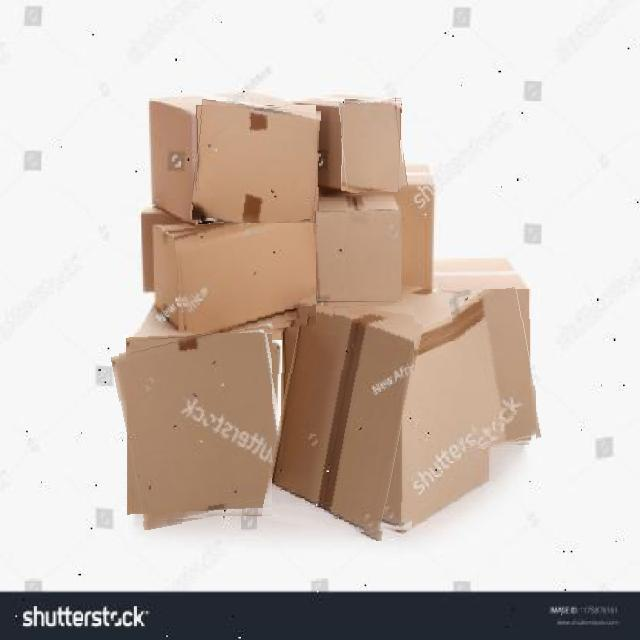BoxFace: (272, 306, 414, 537), (119, 334, 290, 524), (193, 102, 319, 229), (176, 223, 316, 335), (456, 289, 536, 448), (314, 211, 400, 300), (341, 97, 405, 192)
